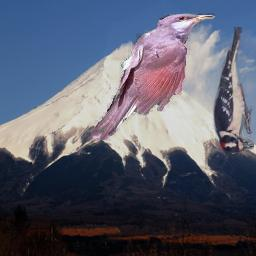Cuckoo: (91, 13, 215, 143)
Woodpecker: (212, 27, 254, 157)
